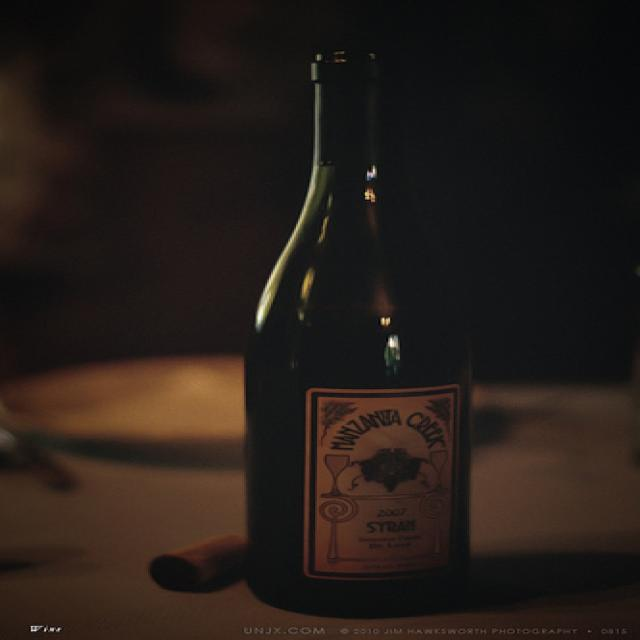Bottle: (276, 28, 507, 609)
